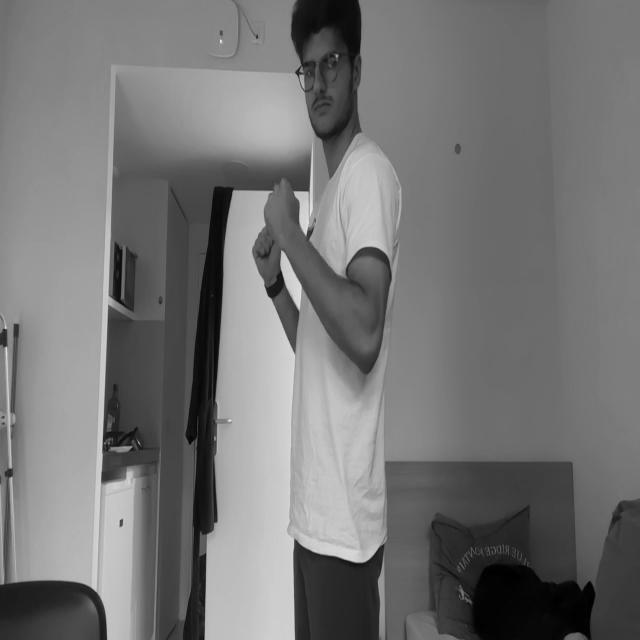elbow: (351, 286, 382, 373)
hand: (264, 178, 300, 244), (253, 224, 282, 286)
shoulder: (342, 150, 398, 234)
